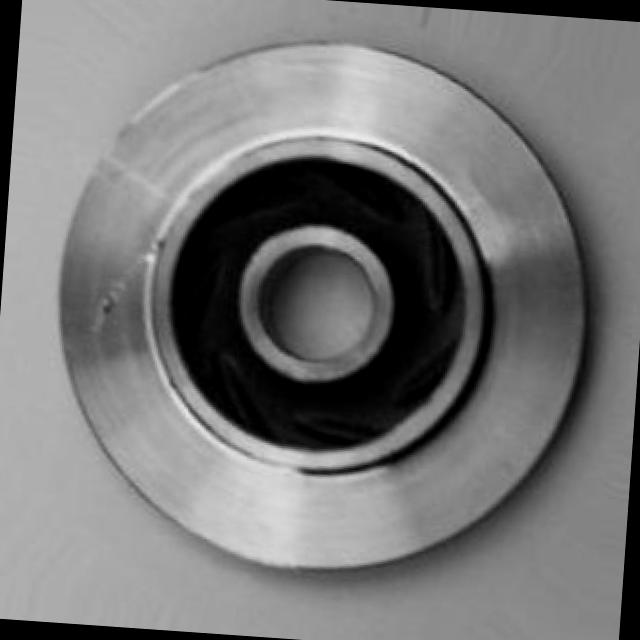Defect: (90, 274, 128, 332)
